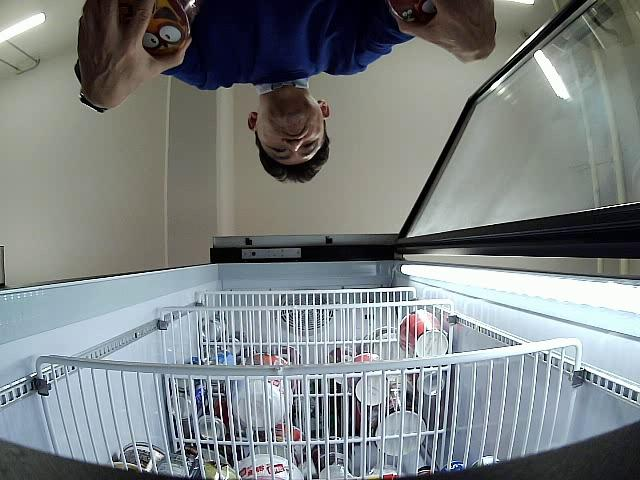00_hand: (79, 0, 190, 111), (396, 0, 496, 63)
05_nuguri_L: (120, 0, 190, 55), (388, 0, 436, 23)
